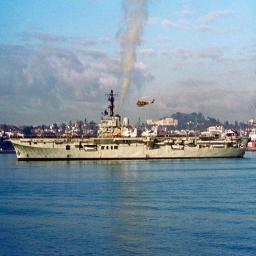Portanaves: (7, 89, 255, 164)
